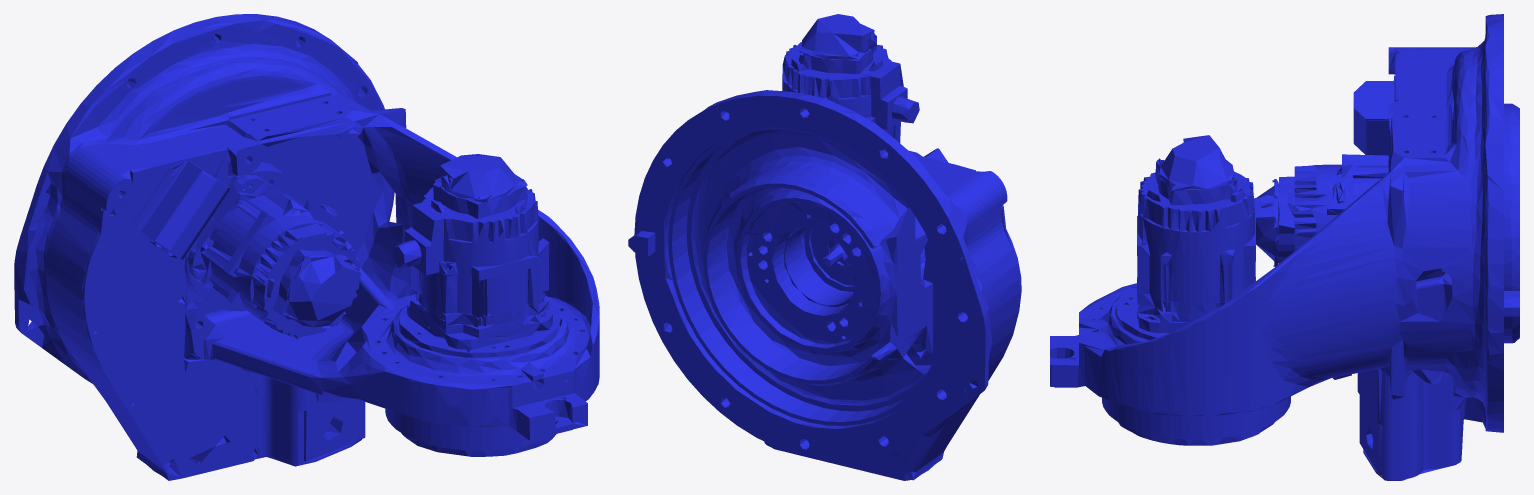
3 renders of one model, left to right at view 1: azimuth 30°, elevation 25°; view 2: azimuth 150°, elevation 25°; view 3: azimuth 270°, elevation 25°, orthographic. The views are drawn at different scales.
Visible parts, largest first — view 1: /Link1/Link1_001-mesh/0; view 2: /Link1/Link1_001-mesh/0; view 3: /Link1/Link1_001-mesh/0.
Part boxes in pixels (x1=…): /Link1/Link1_001-mesh/0: x1=14, y1=14, x2=599, y2=480; /Link1/Link1_001-mesh/0: x1=628, y1=14, x2=1021, y2=480; /Link1/Link1_001-mesh/0: x1=1050, y1=14, x2=1519, y2=480.
Bounding box in the file's own units: 0.5247 × 0.483 × 0.5135.
